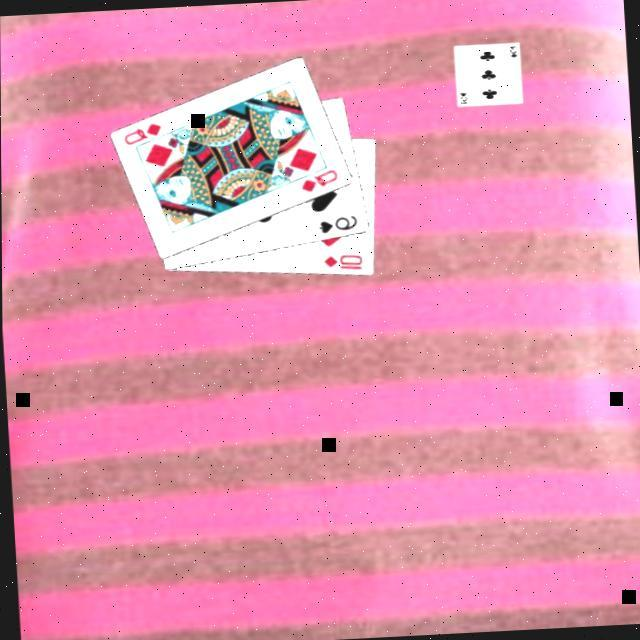10D: (322, 250, 368, 274)
6S: (317, 211, 362, 236)
QD: (298, 165, 343, 195), (122, 119, 168, 147)
